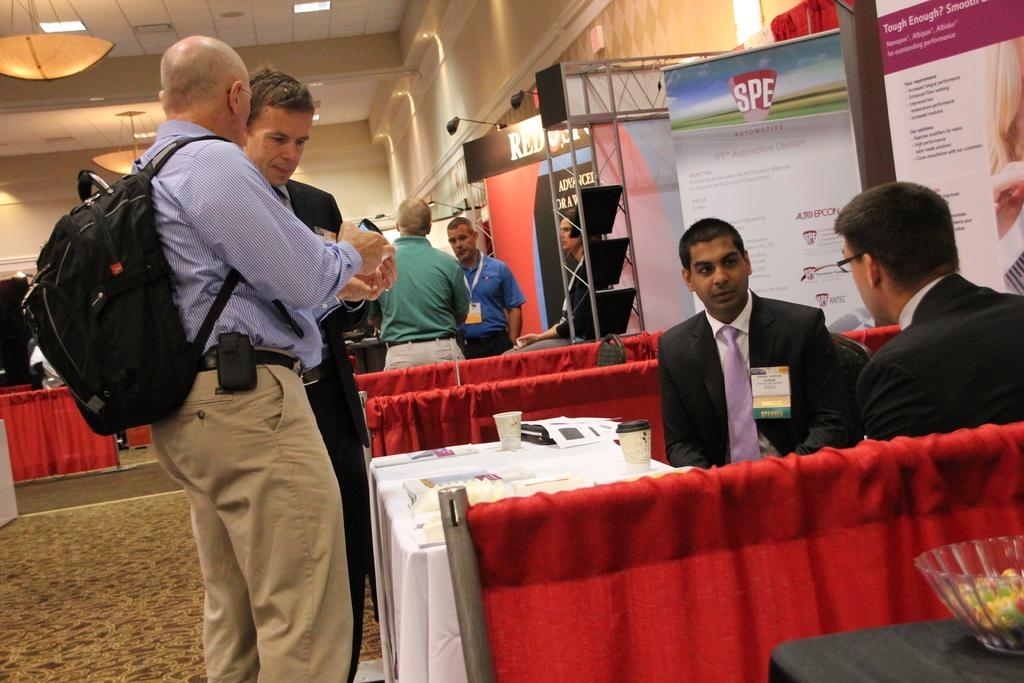Luggage-and-bags: (19, 163, 309, 413)
